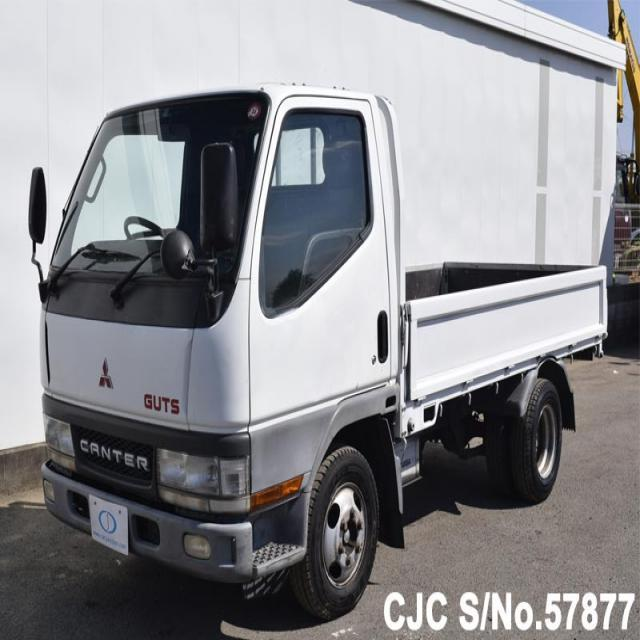bicycle: (28, 85, 606, 609)
